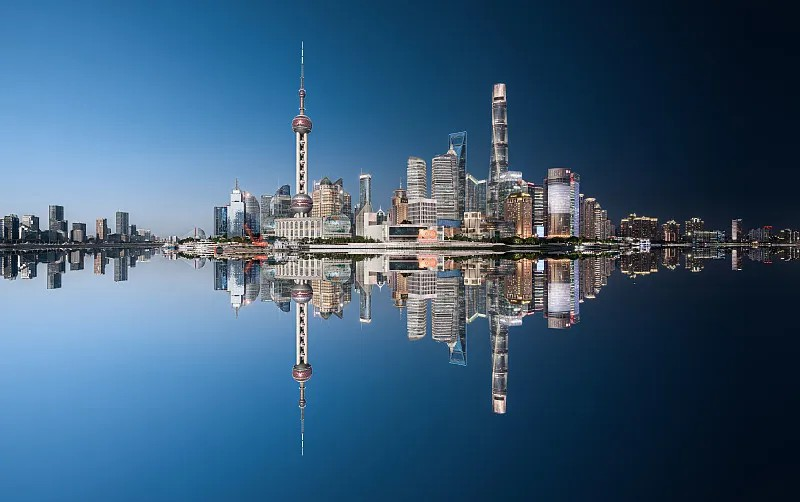Oriental: (291, 41, 314, 218)
